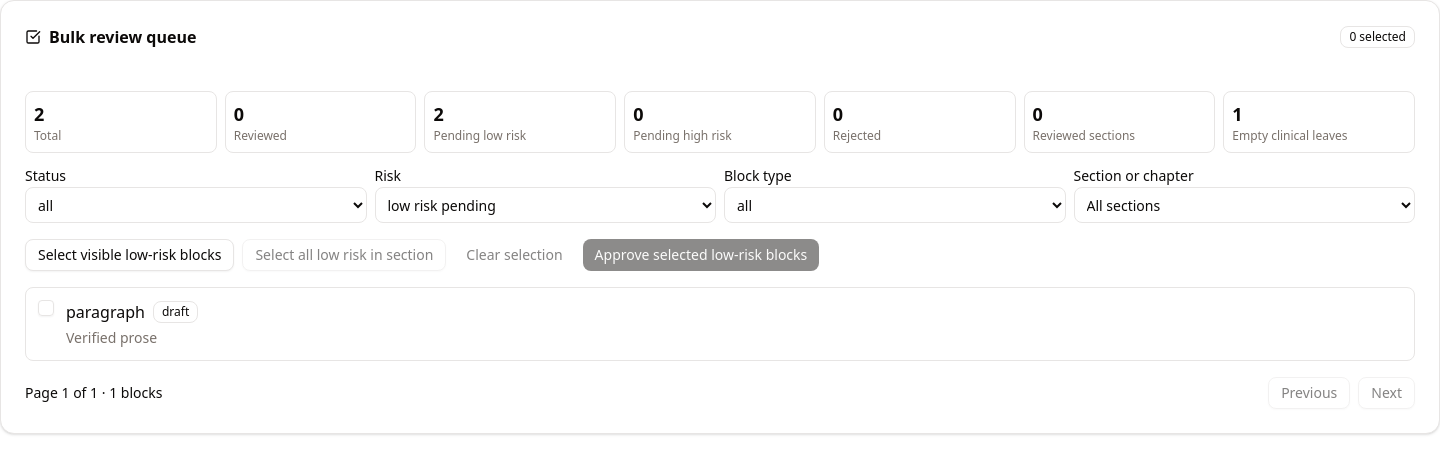
Scenario: GuidelineBulkReviewPanel › loads every page when selecting low-risk blocks in the current section
This screenshot has width=1440, height=452.
Expected: the checkbox named "Select paragraph block" is shown, [38, 300, 54, 316]
Select "— Care" in the dropdown labelled "Section or chapter" at (1244, 205), box [1074, 187, 1415, 223]
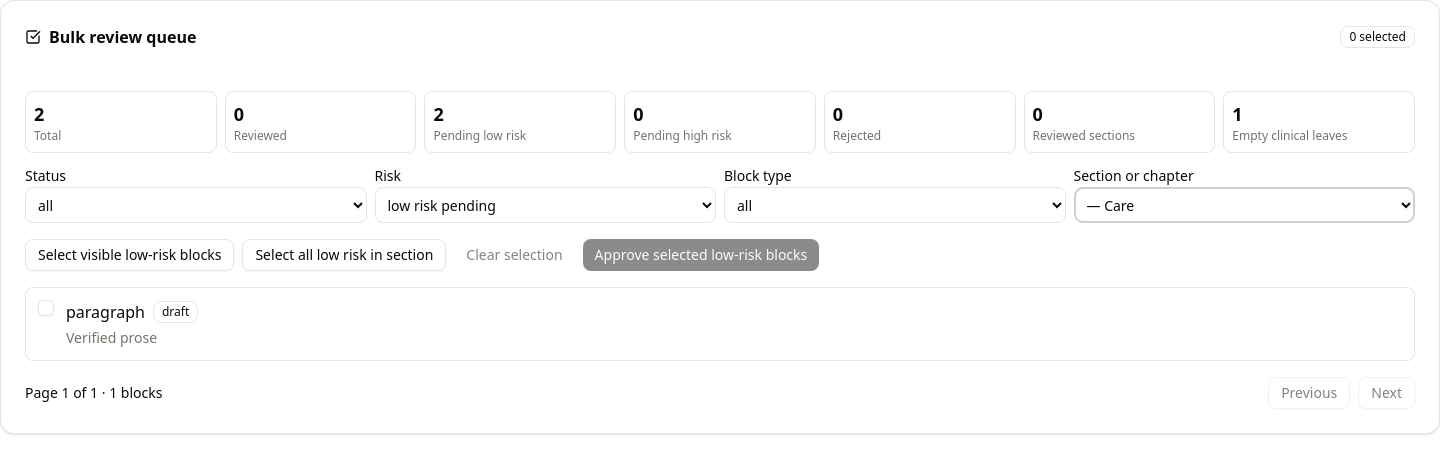
Click the button "Select all low risk in section".
click(344, 255)  # box [242, 239, 446, 271]
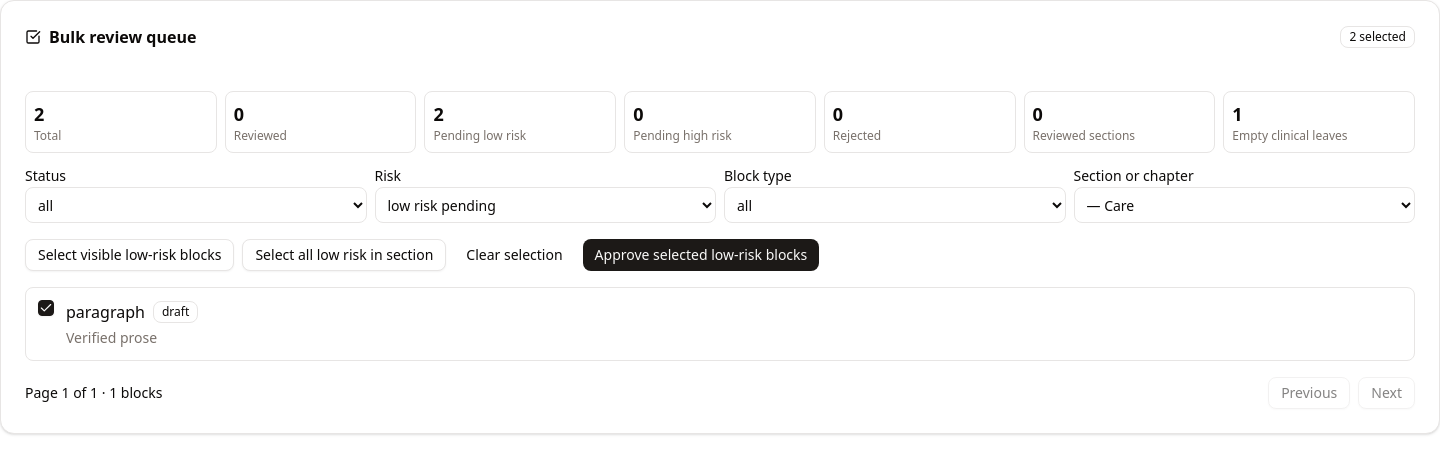
Now the text "2 selected" is shown, box [1340, 26, 1415, 48]
